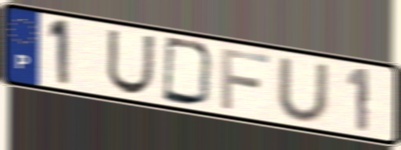1: (45, 17, 73, 88), (345, 66, 372, 135)
D: (160, 34, 216, 109)
F: (219, 46, 273, 112)
U: (274, 56, 332, 126), (104, 27, 157, 96)
